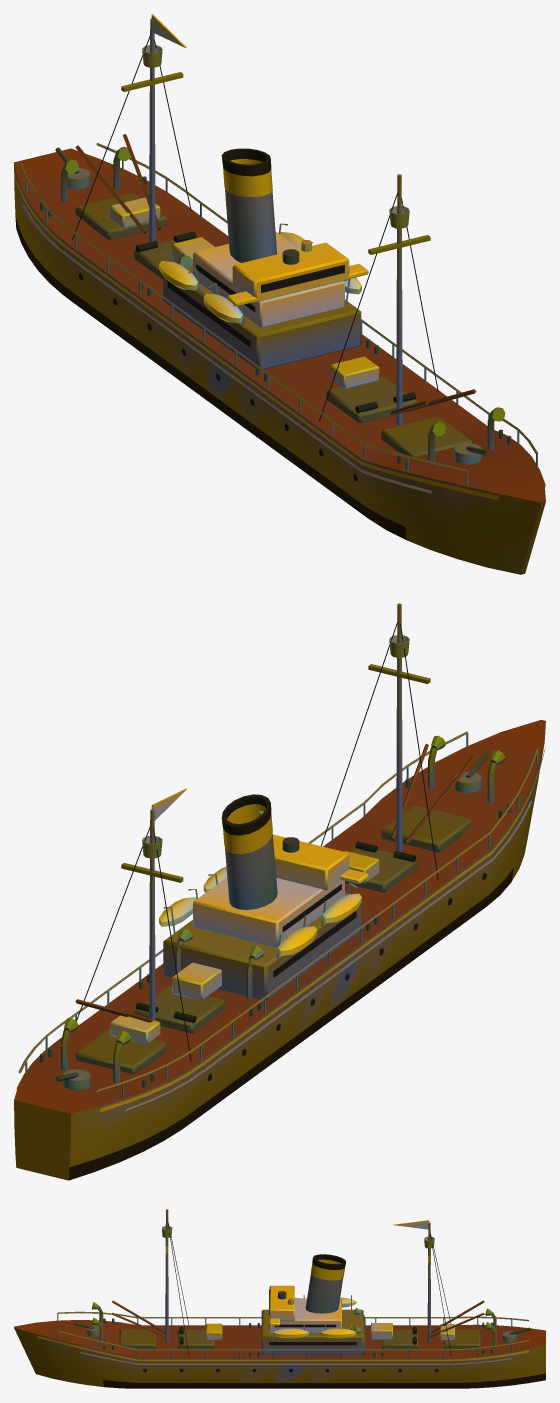
Rendered from ship.glb.
3 views of the same model, one above another, from view 1: azimuth 30°, elevation 25°; view 2: azimuth 150°, elevation 25°; view 3: azimuth 270°, elevation 25° (orthographic). The views are drawn at different scales.
Parts seen in each view (by area): view 1: hull, funnel; view 2: hull, funnel; view 3: hull, funnel.
Boxes of the visible parts, left/top/right/bottom form: hull: left=14, top=14, right=545, bottom=574; funnel: left=221, top=148, right=276, bottom=262; hull: left=14, top=603, right=545, bottom=1180; funnel: left=221, top=794, right=277, bottom=909; hull: left=14, top=1209, right=545, bottom=1388; funnel: left=305, top=1254, right=345, bottom=1313.
Bounding box in the file's own units: 0.1163 × 0.248 × 0.73.
